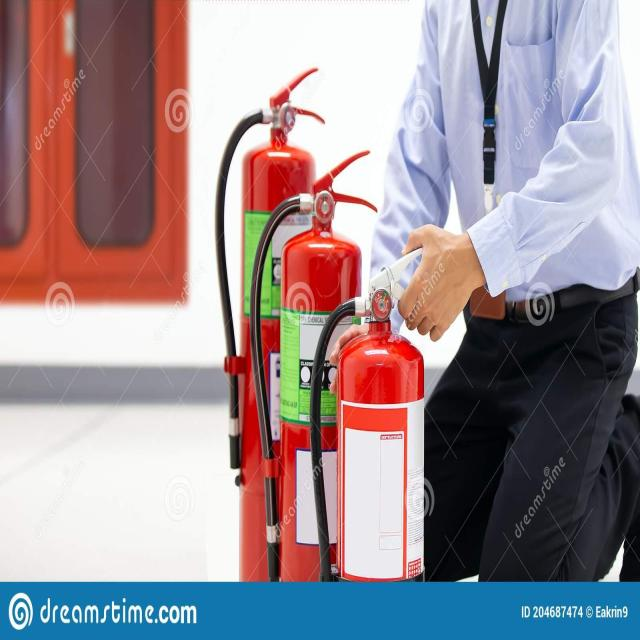fire_extinguisher: (212, 65, 326, 580), (247, 147, 379, 582), (308, 242, 443, 582)
